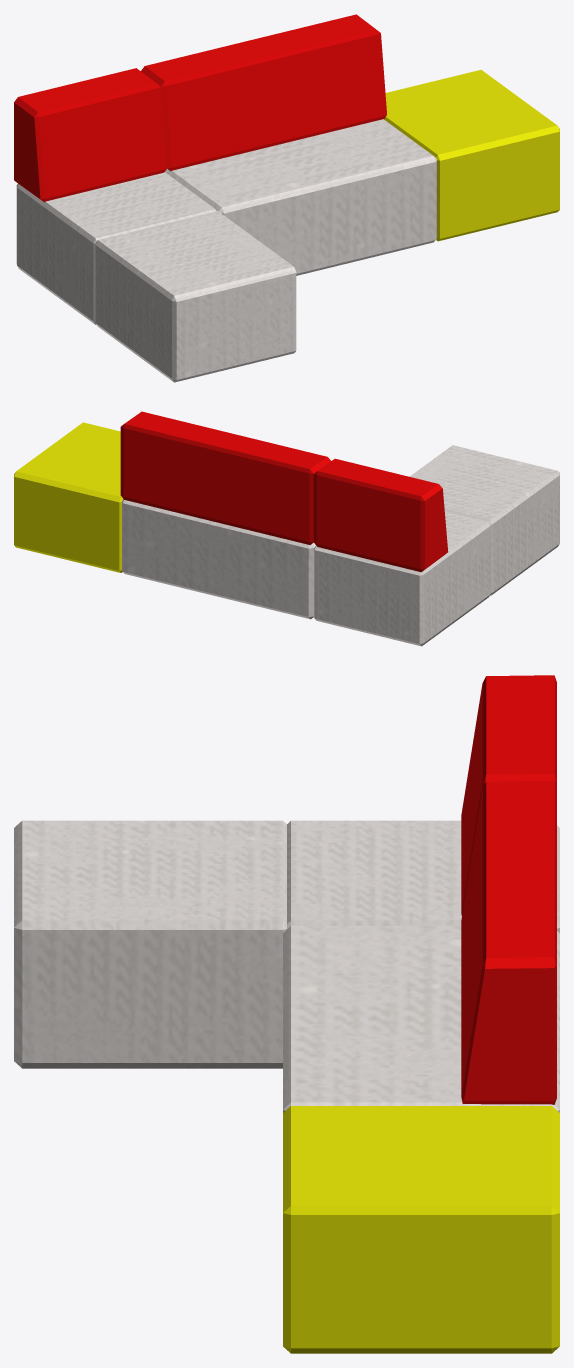
The model's file is lobby_sofa.fbx.
The picture shows the model from 3 angles, top to bottom: view 1: azimuth 30°, elevation 25°; view 2: azimuth 150°, elevation 25°; view 3: azimuth 270°, elevation 25°; orthographic projection. The views are drawn at different scales.
Parts seen in each view (by area): view 1: cushion2, sofa, backcusion, cushion1, backcusion1, cushion; view 2: backcusion, sofa, cushion, cushion1, backcusion1, cushion2; view 3: cushion1, cushion2, sofa, backcusion, cushion, backcusion1.
Part boxes in pixels (x1,y1,x2,y2): cushion2: [95, 211, 296, 382]; sofa: [165, 119, 436, 275]; backcusion: [141, 14, 386, 171]; cushion1: [384, 70, 559, 241]; backcusion1: [14, 68, 166, 202]; cushion: [16, 172, 216, 324]; backcusion: [120, 411, 330, 544]; sofa: [122, 499, 315, 619]; cushion: [314, 510, 490, 646]; cushion1: [14, 422, 122, 572]; backcusion1: [313, 458, 448, 572]; cushion2: [409, 445, 559, 595]; cushion1: [283, 1106, 559, 1353]; cushion2: [14, 820, 286, 1068]; sofa: [283, 926, 559, 1112]; backcusion: [461, 780, 556, 1104]; cushion: [287, 820, 559, 932]; backcusion1: [461, 675, 556, 915].
Bounding box in the file's own units: 279 × 97.71 × 165.
3 materials, 1 textured.
